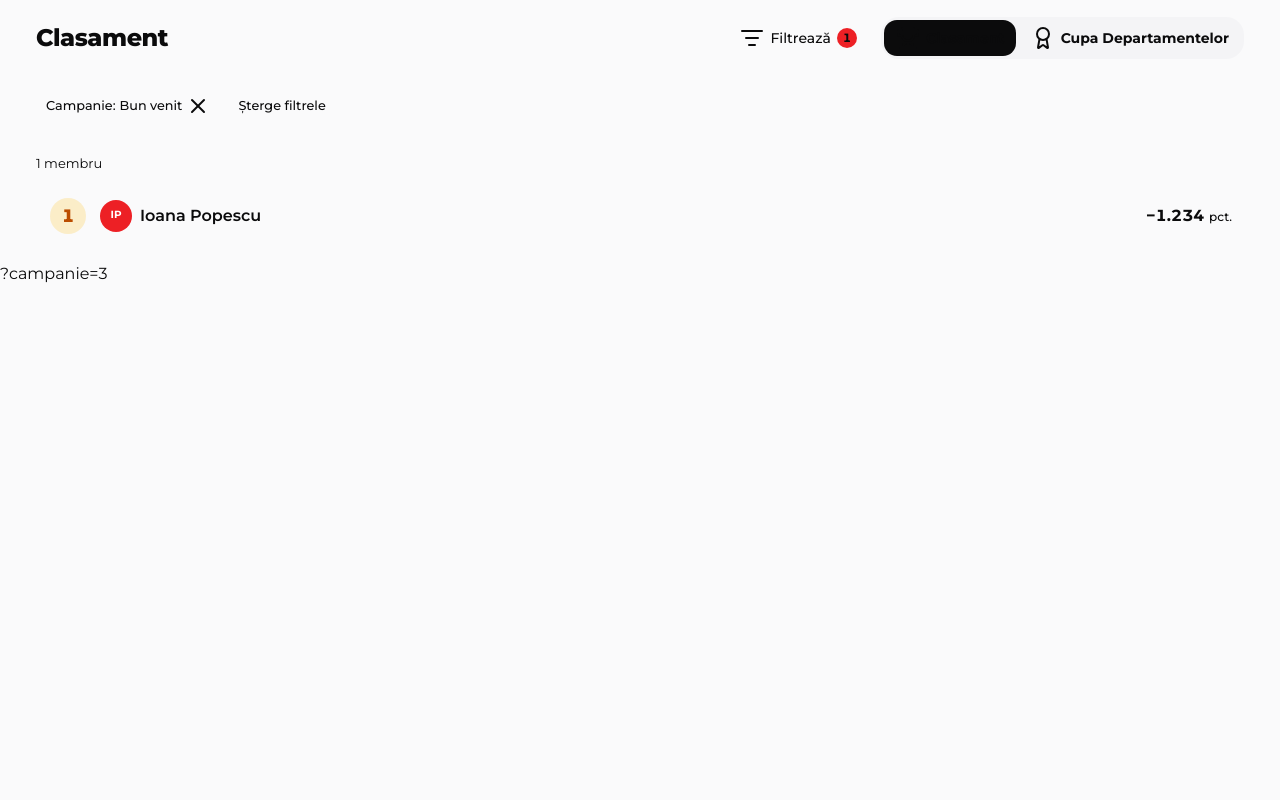
Test: switches to the Cup and back, keeping the filter, the URL and this device’s choice
Click the button "Cupa Departamentelor".
click(1130, 38)  # box [1019,20,1241,56]
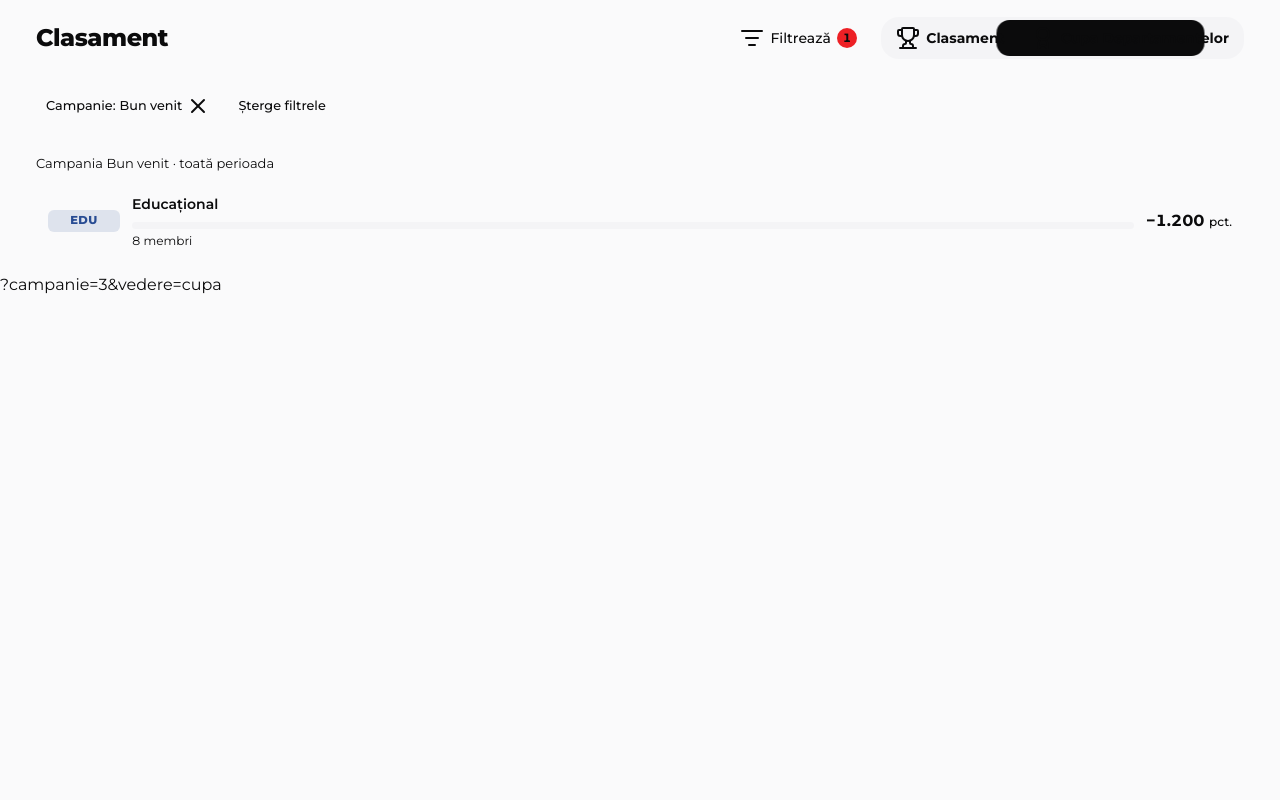
Expected: the element named "Cupa Departamentelor" is shown, [36,152,1244,256]
Click the button "Clasament".
click(950, 38)  # box [884,20,1017,56]
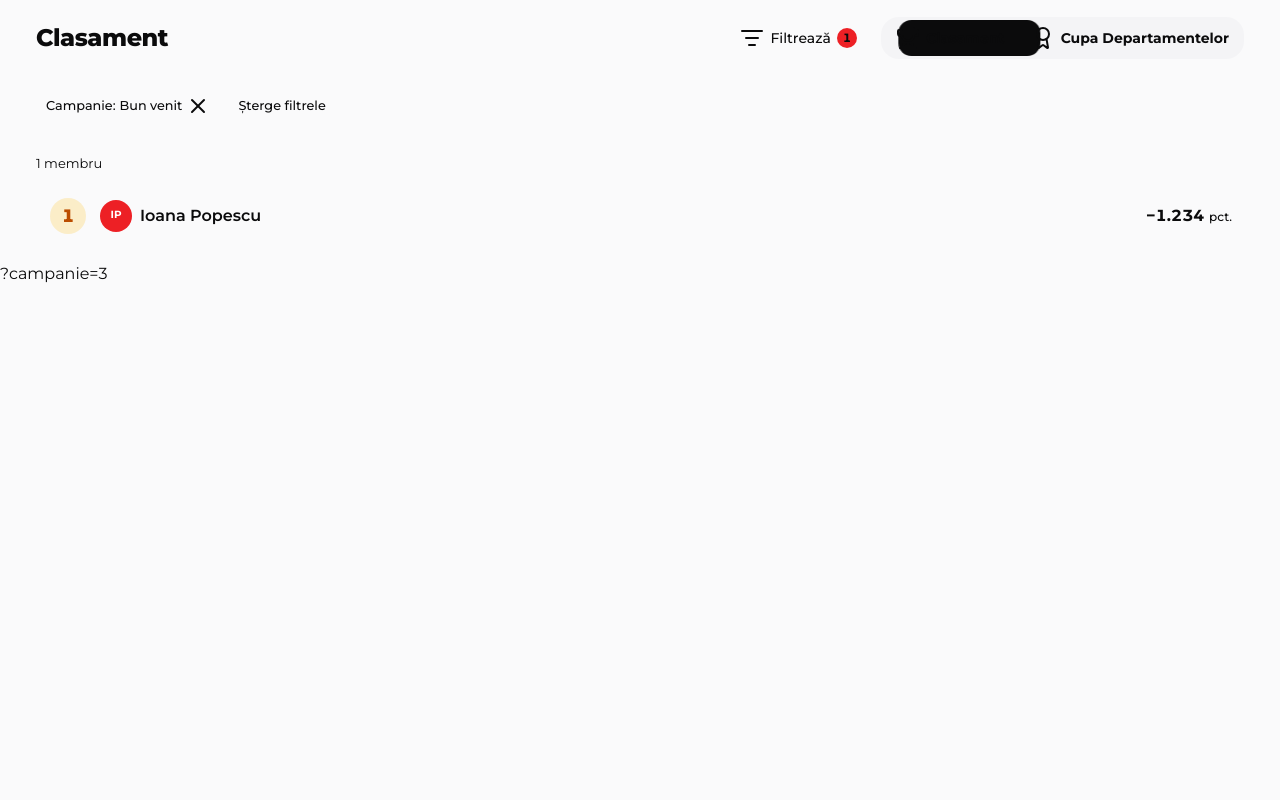
Expected: the element named "Clasamentul membrilor" is shown, [36,152,1244,246]
